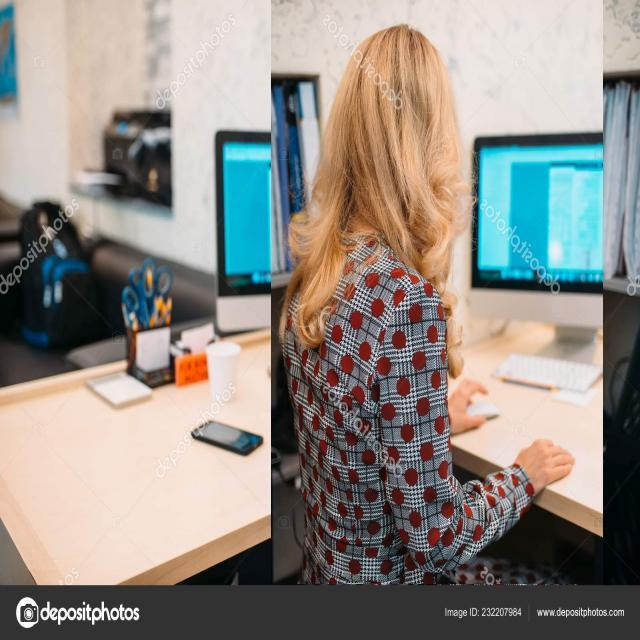NotFall: (215, 54, 640, 634)
